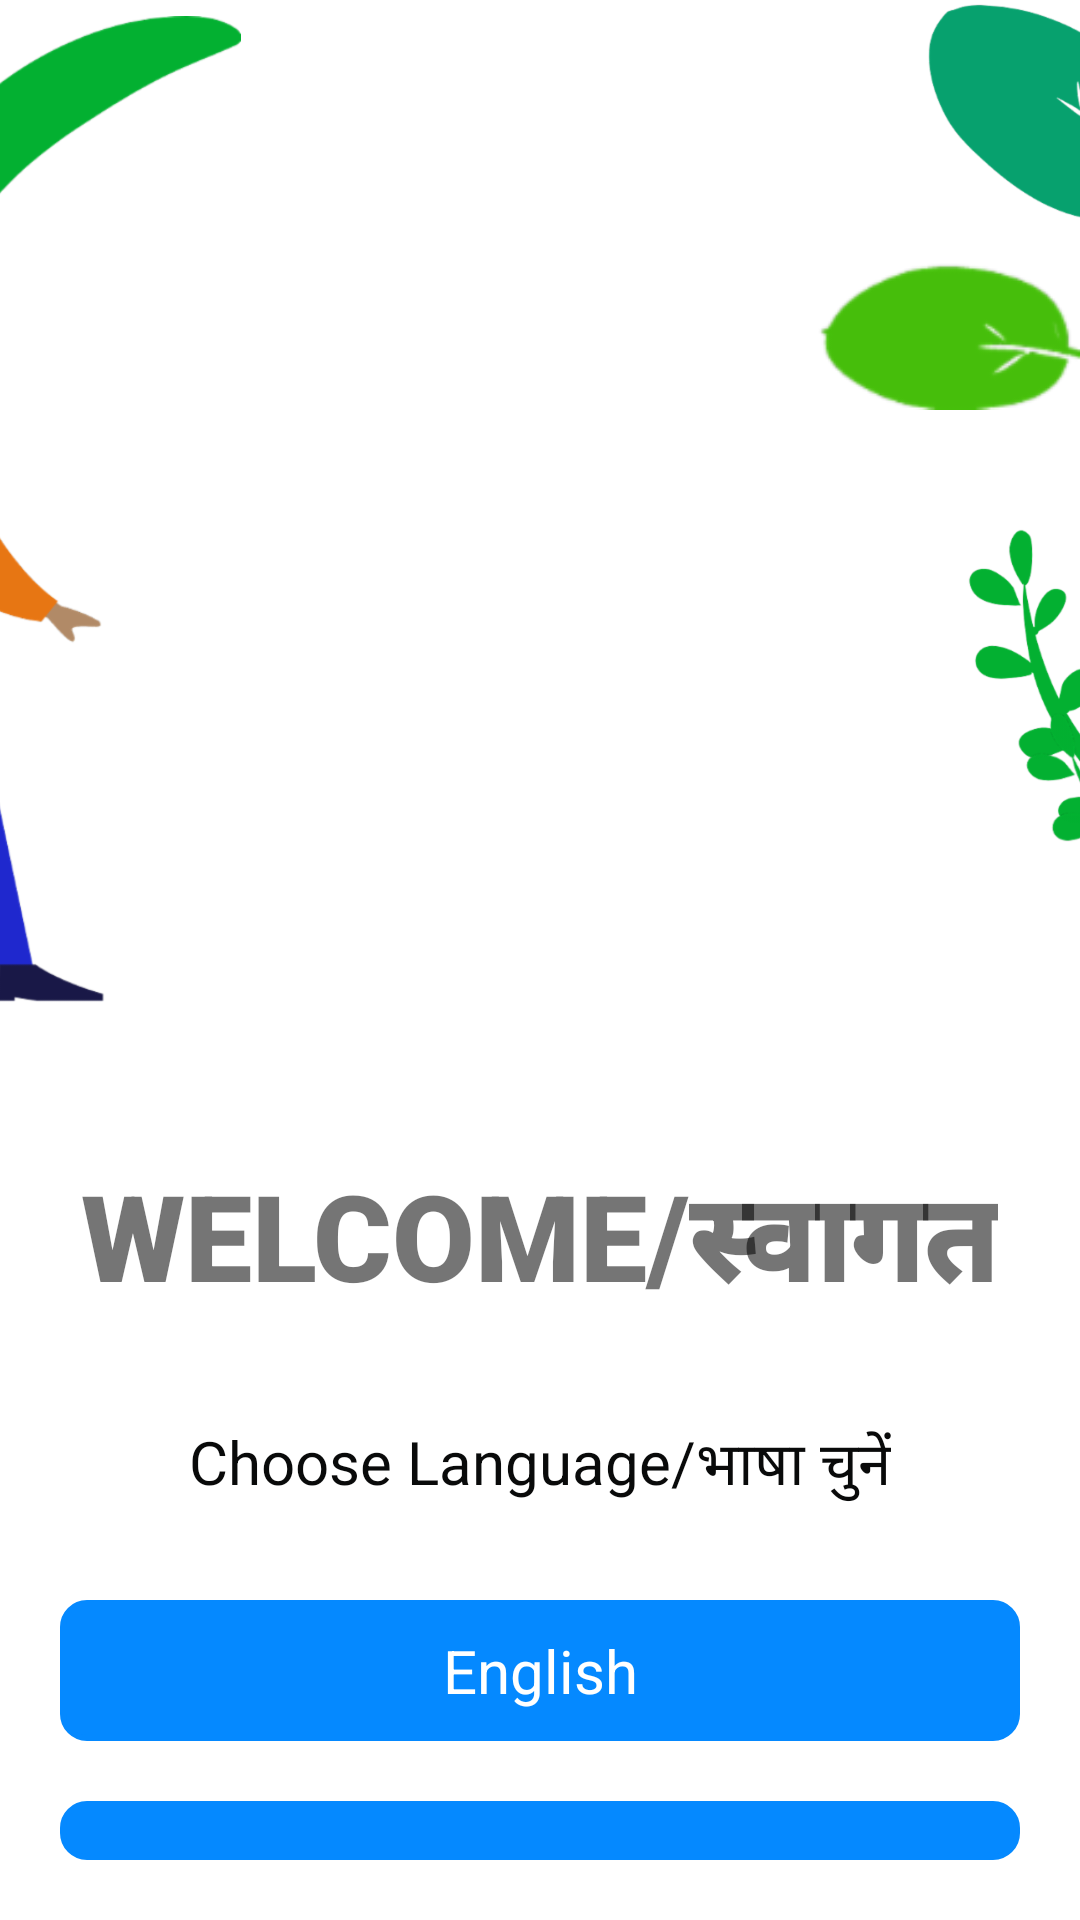

Named icons in this screenshot (1080px x 1920px) and their bounding boxes, (x1, y1, x2, y2):
leave the leaf: (821, 265, 1080, 410)
